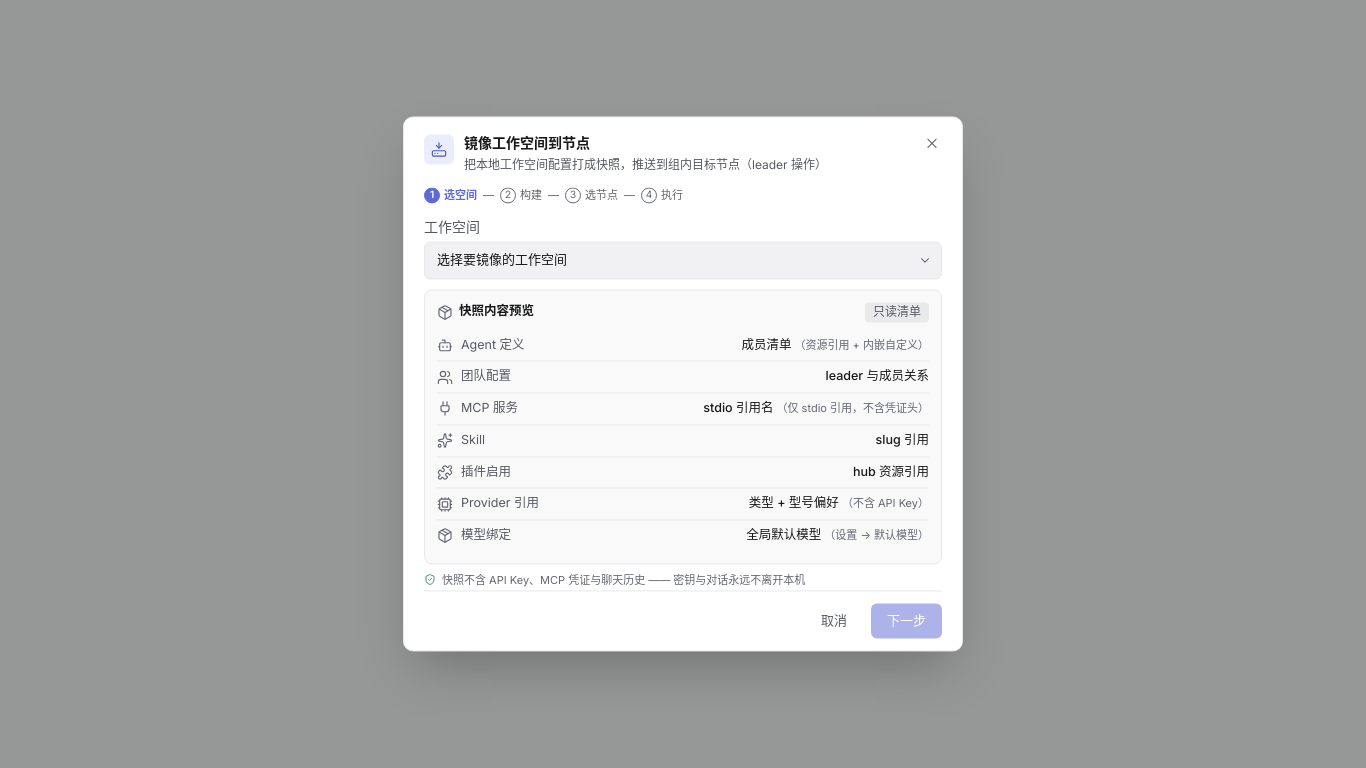
Scenario: MirrorWizard S1/S2/S3 › S1 红线文案与 excluded 提示（构建后）；未选空间下一步禁用
This screenshot has width=1366, height=768.
Expected: the text "快照不含 API Key、MCP 凭证与聊天历史 —— 密钥与对话永远不离开本机" is shown, [424,573,805,587]
Expected: the text "全局默认模型" is shown, [746,527,821,542]
Step 1. Select "product-dev" in the dropdown labelled "工作空间" → [683, 260], box [424,241,942,279]
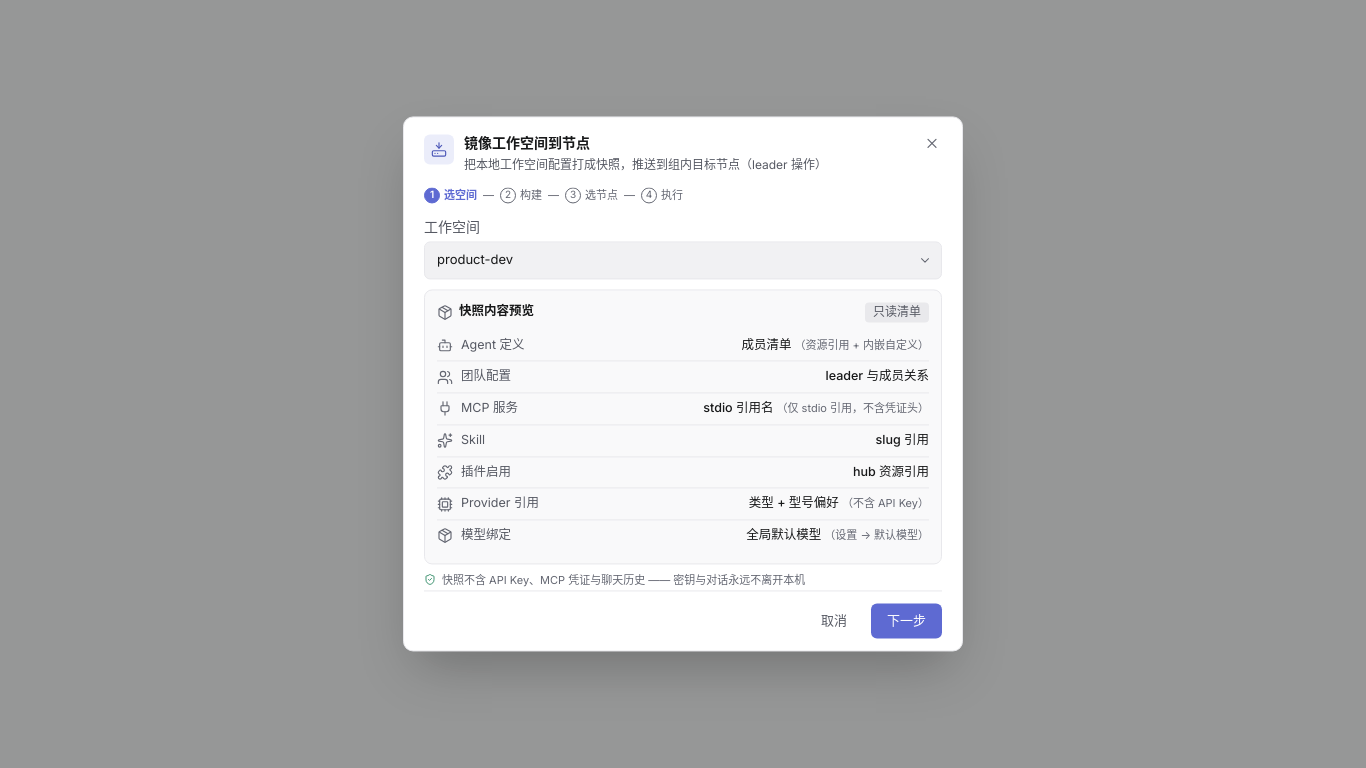
Expected: the button "下一步" is enabled, [871,603,942,639]
